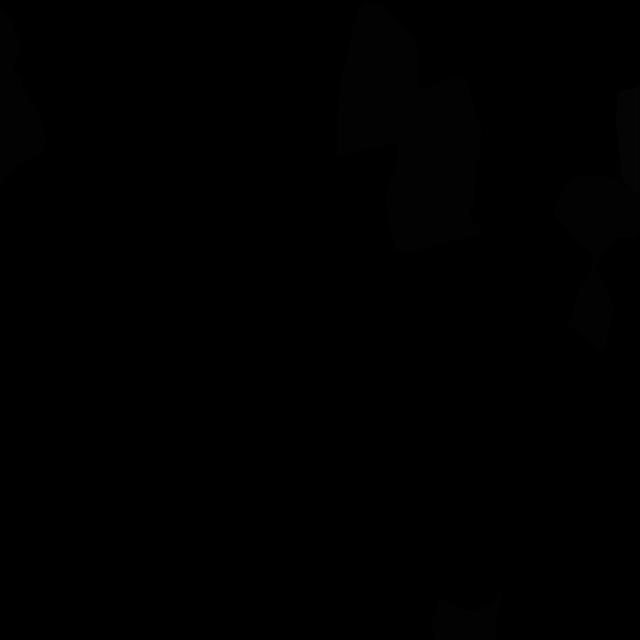cardboard: (337, 3, 485, 251), (554, 175, 640, 352), (0, 6, 48, 187), (432, 589, 501, 640)
soft_plastic: (616, 84, 640, 204)
